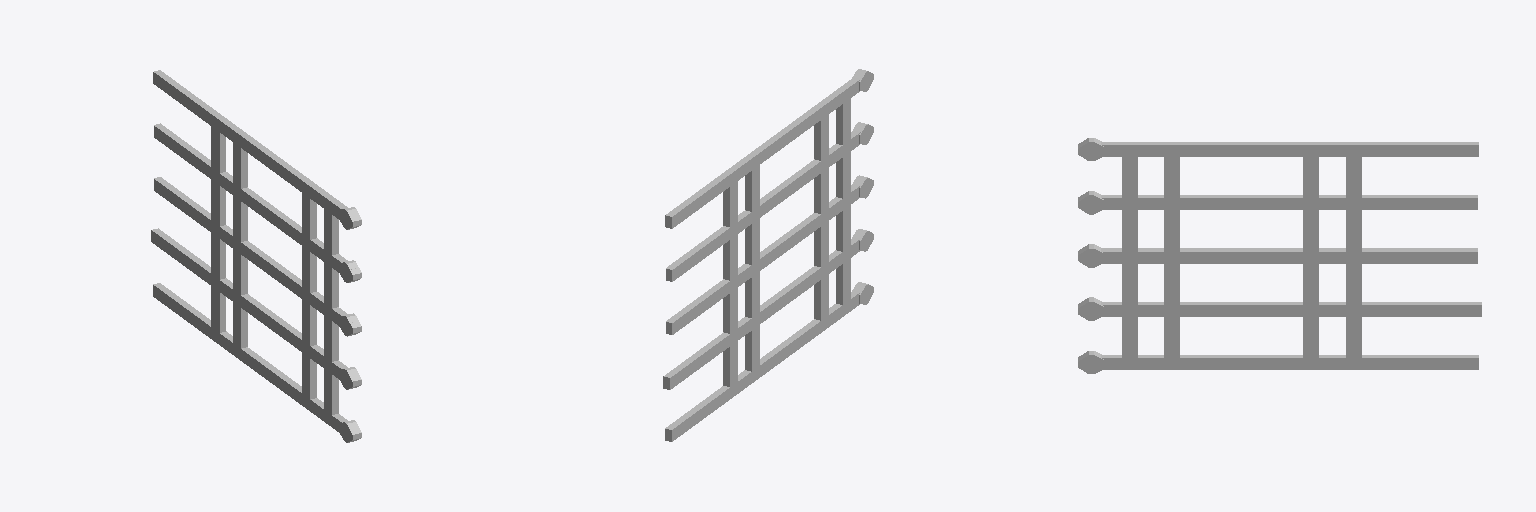
The model's file is wall.obj.
3 renders of one model, left to right at view 1: azimuth 30°, elevation 25°; view 2: azimuth 150°, elevation 25°; view 3: azimuth 270°, elevation 25°, orthographic.
Parts seen in each view (by area): view 1: gate_Cube.004_Cube.005; view 2: gate_Cube.004_Cube.005; view 3: gate_Cube.004_Cube.005.
Boxes of the visible parts, box(x1,y1,x2,y2) form: gate_Cube.004_Cube.005: box(151, 70, 361, 442); gate_Cube.004_Cube.005: box(663, 69, 873, 441); gate_Cube.004_Cube.005: box(1078, 138, 1481, 373).
Size of the model in its own units: 2 by 48 by 75.74.